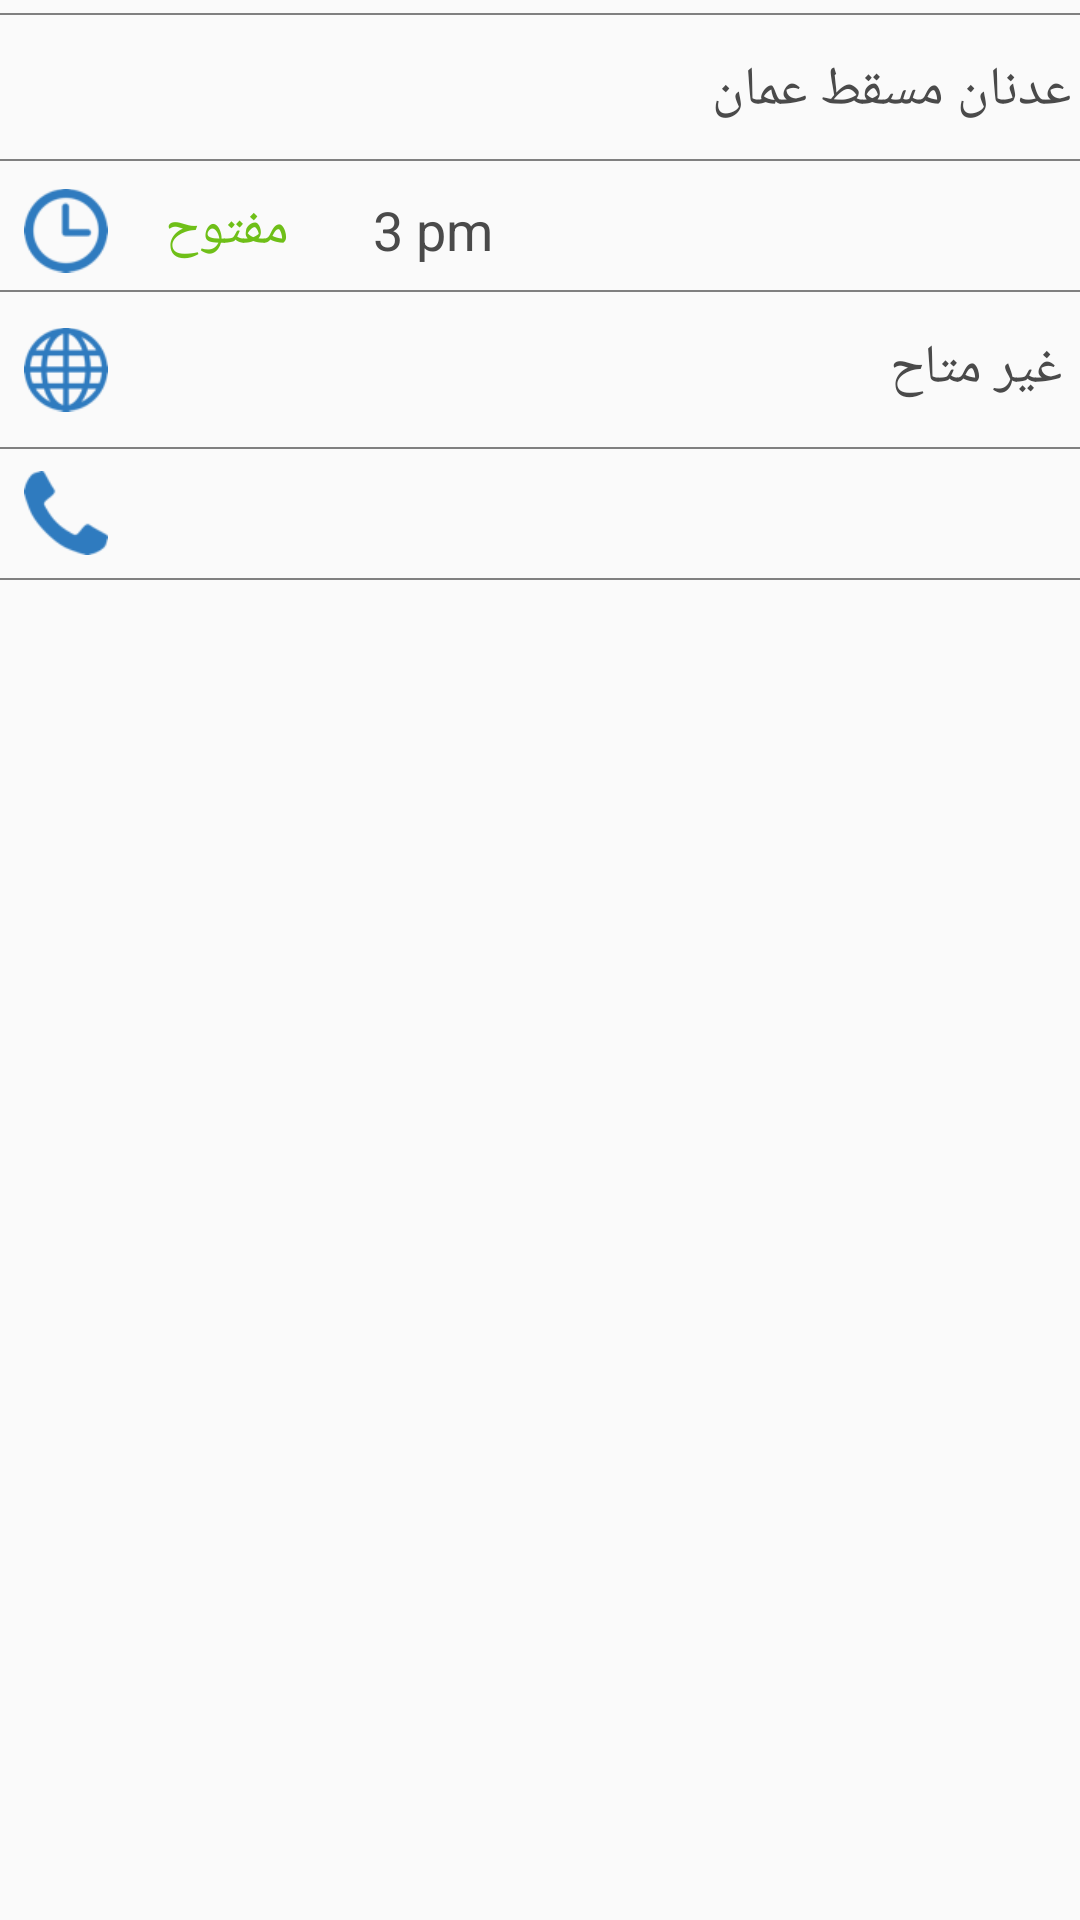

Icons on this 1080*1920 Android screen, each with its box as (x1, y1, x2, y2):
clock: (24, 189, 108, 273)
telephone: (24, 471, 108, 555)
world: (24, 328, 108, 412)
